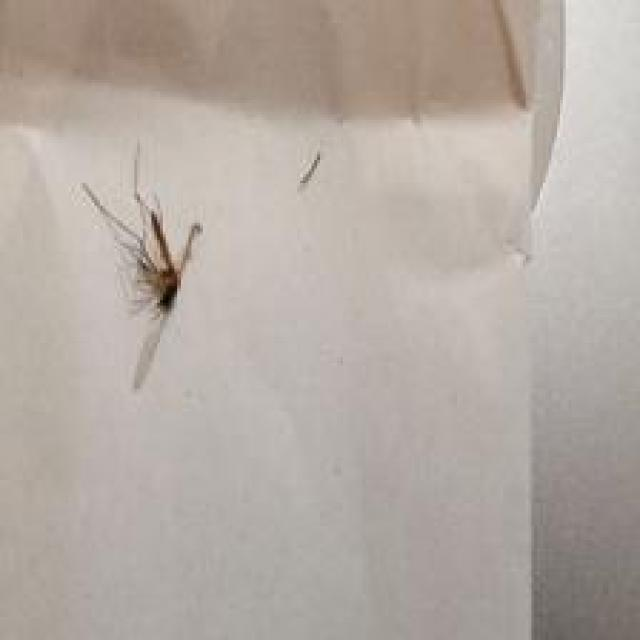Culex: (80, 140, 206, 391)
